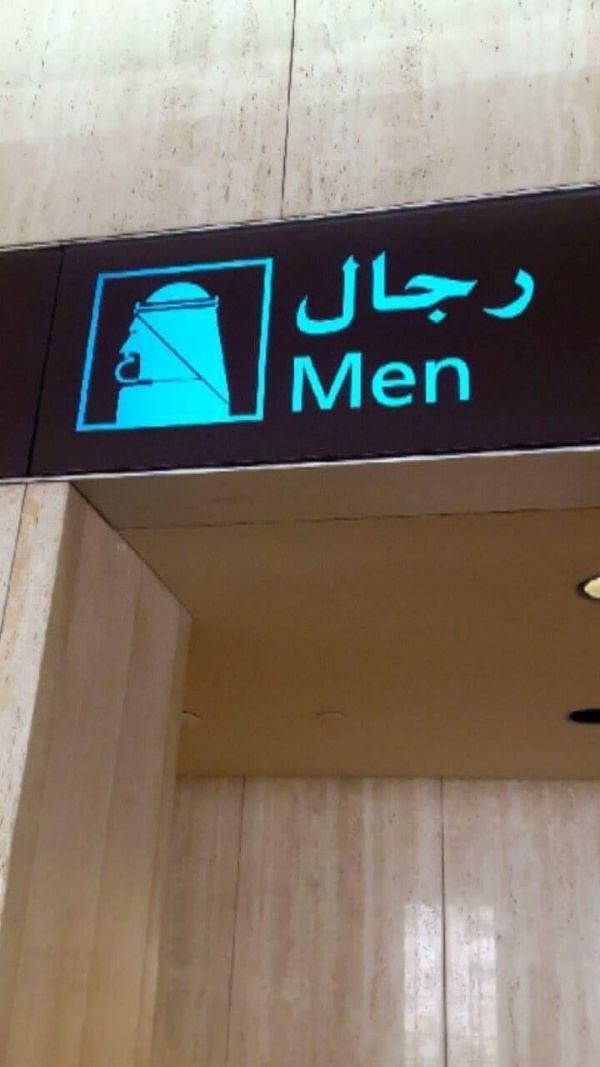text: (305, 243, 320, 339), (321, 243, 336, 339), (337, 243, 352, 339), (353, 243, 368, 339), (369, 243, 384, 339), (385, 243, 400, 339), (401, 243, 416, 339), (417, 243, 432, 339), (433, 243, 448, 339), (449, 243, 464, 339), (465, 243, 480, 339), (481, 243, 496, 339), (497, 243, 512, 339), (513, 243, 528, 339), (529, 243, 540, 339), (294, 243, 304, 339), (305, 351, 320, 415), (321, 351, 336, 415), (337, 351, 352, 415), (353, 351, 368, 415), (369, 351, 384, 415), (385, 351, 400, 415), (401, 351, 416, 415), (417, 351, 432, 415), (433, 351, 448, 415), (449, 351, 464, 415), (291, 351, 304, 415), (465, 351, 475, 415)
